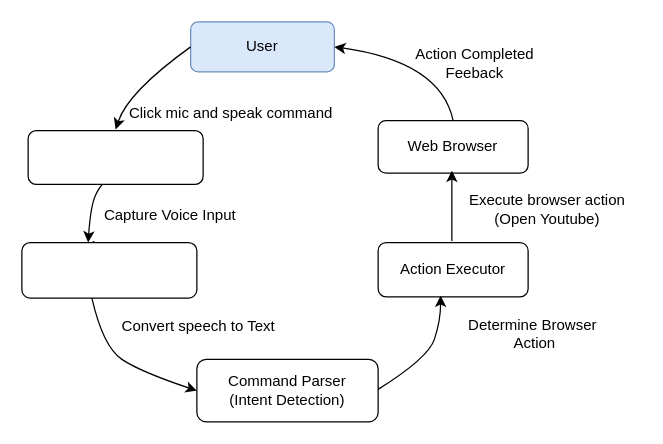
This 663x444 diagram has some shape labels left out. The centre of each missing label's shape, as x and y in pixels:
"UI Mic Button" goes at [115,156].
"Voice Capture & Recognition" goes at [109,269].
